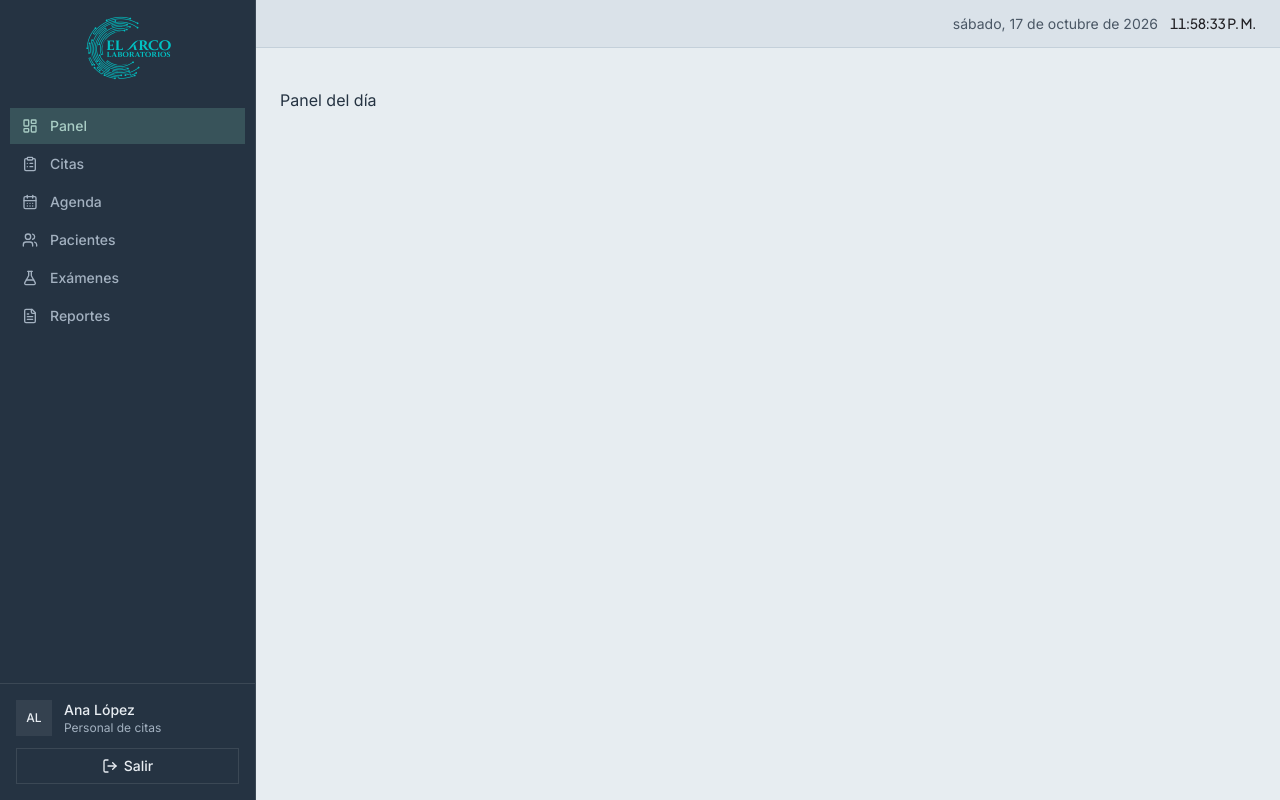
it: Cerrar sesión › sigue en la sesión si se vuelve atrás
The width and height of the screenshot is (1280, 800).
Expected: the text "Panel del día" is shown, [280,90,376,110]
Expected: the text "Ana López" is shown, [64,701,135,718]
Click the button "Salir" at (128, 766), box [16,748,239,784]
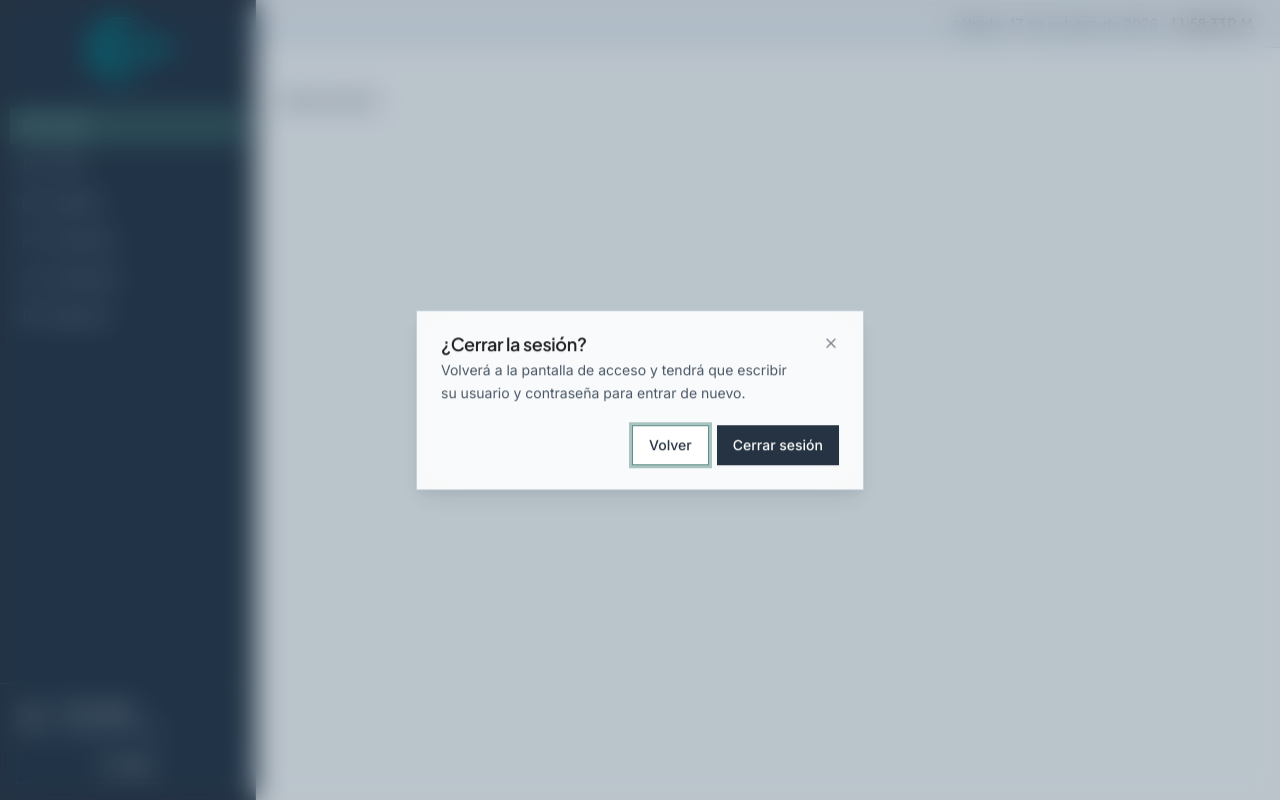
Expected: the dialog is shown, [416,310,864,490]
Click the button "Volver" at (670, 445), box [632,425,709,465]
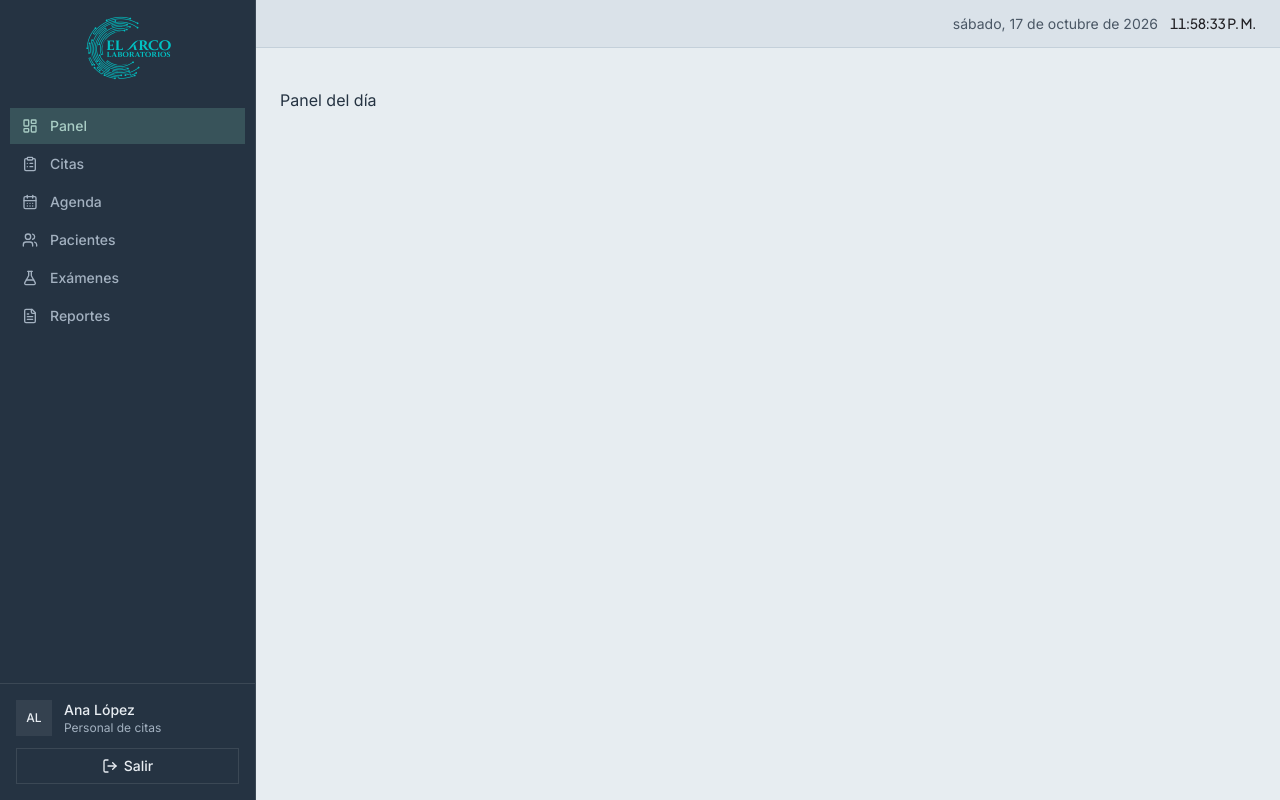
Expected: the text "Panel del día" is shown, [280,90,376,110]
Expected: the dialog is gone
